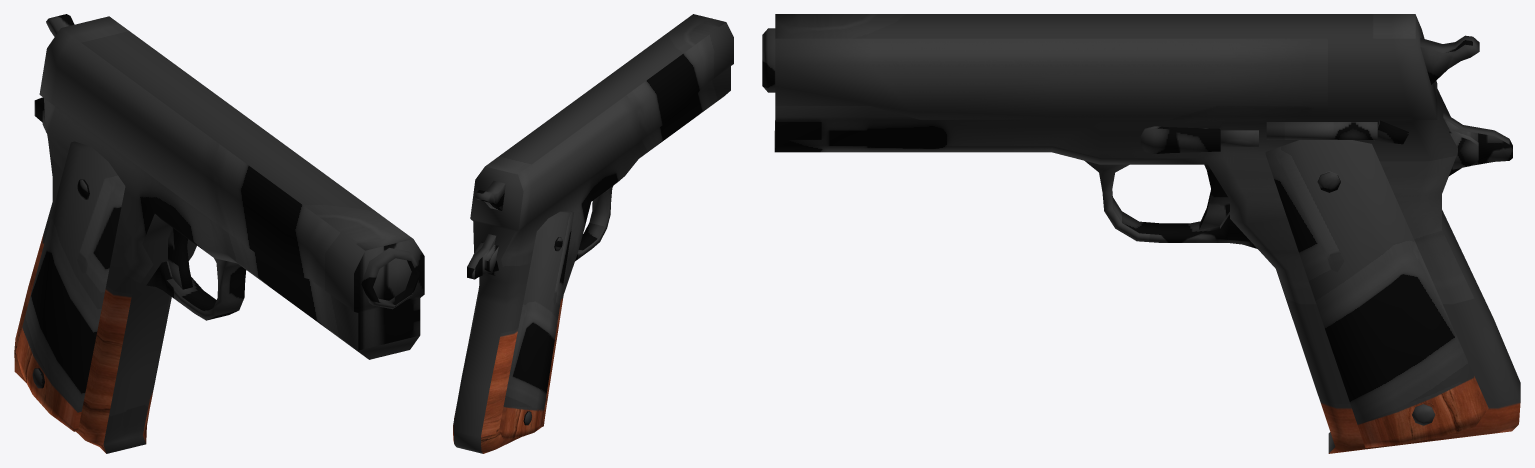
Rendered from easy-weapons-pistol-slide.glb.
3 renders of one model, left to right at view 1: azimuth 30°, elevation 25°; view 2: azimuth 150°, elevation 25°; view 3: azimuth 270°, elevation 25°, orthographic. The views are drawn at different scales.
Visible parts, largest first — view 1: Pistol_Slide, pistol; view 2: Pistol_Slide, pistol; view 3: Pistol_Slide, pistol.
Part boxes in pixels (bbox=[...]): Pistol_Slide: bbox=[39, 14, 424, 359]; pistol: bbox=[14, 97, 246, 453]; Pistol_Slide: bbox=[467, 14, 733, 271]; pistol: bbox=[453, 176, 624, 453]; Pistol_Slide: bbox=[762, 14, 1509, 157]; pistol: bbox=[1054, 118, 1520, 453].
Bounding box in the file's own units: 0.0848 × 0.3524 × 0.58.
1 material, 1 textured.
